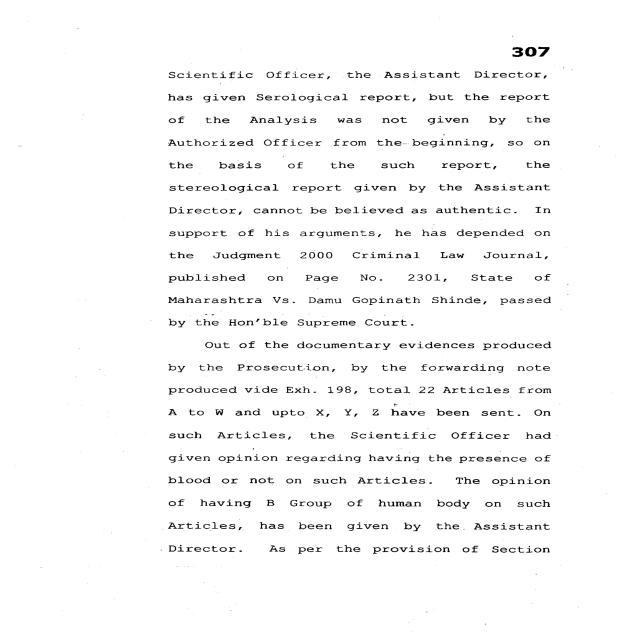page-number: (426, 1, 636, 62)
